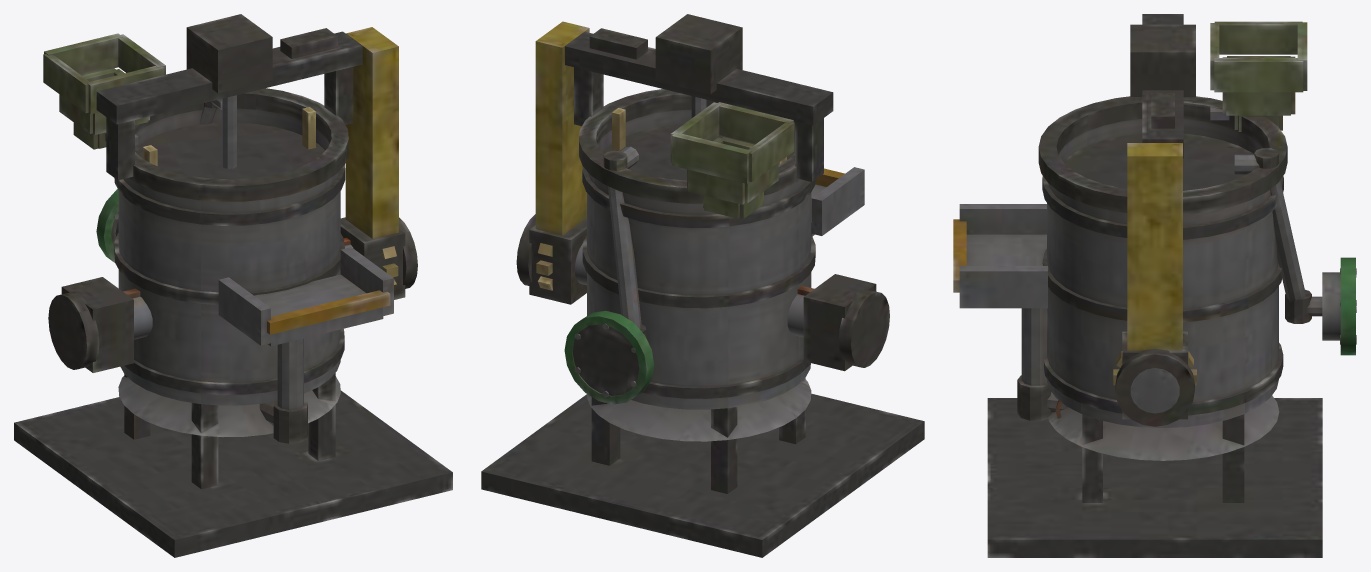
Rendered from feChemMixer.glb.
3 views of the same model, side by side, from view 1: azimuth 30°, elevation 25°; view 2: azimuth 150°, elevation 25°; view 3: azimuth 270°, elevation 25° (orthographic). The views are drawn at different scales.
Parts seen in each view (by area): view 1: feChemMixer_Base, FeSpin_DriveShaft, FeSpin_x0.5_Stirrer; view 2: feChemMixer_Base, FeSpin_DriveShaft, FeSpin_x0.5_Stirrer; view 3: feChemMixer_Base, FeSpin_DriveShaft.
Part boxes in pixels (x1,y1,x2,y2): feChemMixer_Base: (14,14,452,557); FeSpin_DriveShaft: (48,217,417,369); FeSpin_x0.5_Stirrer: (143,95,315,168); feChemMixer_Base: (481,14,924,557); FeSpin_DriveShaft: (516,214,889,367); FeSpin_x0.5_Stirrer: (612,96,786,164); feChemMixer_Base: (953,14,1356,557); FeSpin_DriveShaft: (1113,348,1196,426).
Size of the model in its own units: 1 by 1.24 by 1.01.
Materials: 3 (1 with a texture image).
